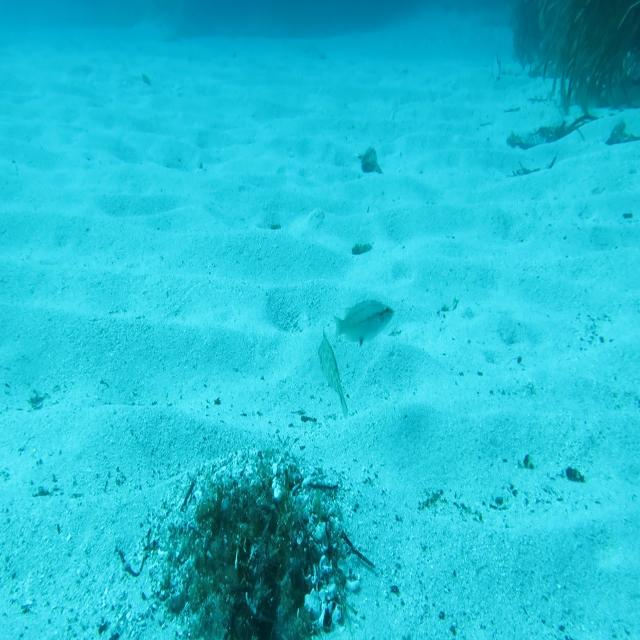MAF: (316, 324, 349, 423)
core_nest: (224, 502, 268, 536)
female: (332, 296, 395, 348)
nest: (138, 433, 374, 640)
vegetation: (349, 241, 373, 255)
